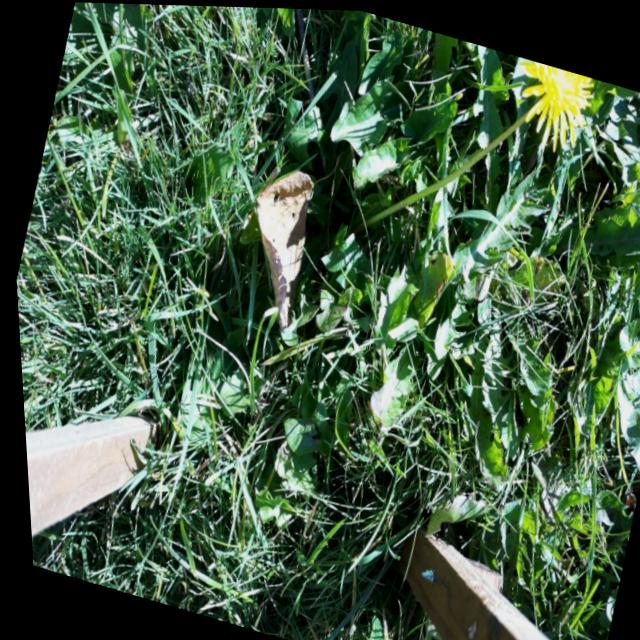base: (338, 200, 378, 248)
flower: (495, 52, 603, 149)
